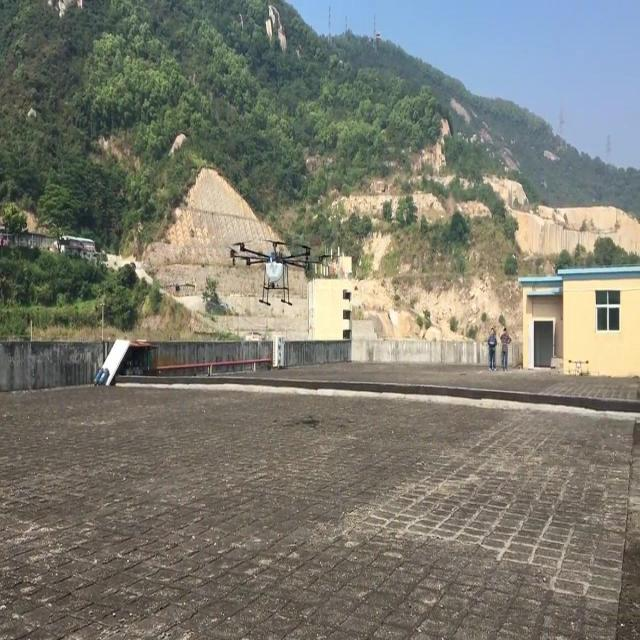drone: (225, 234, 335, 308)
